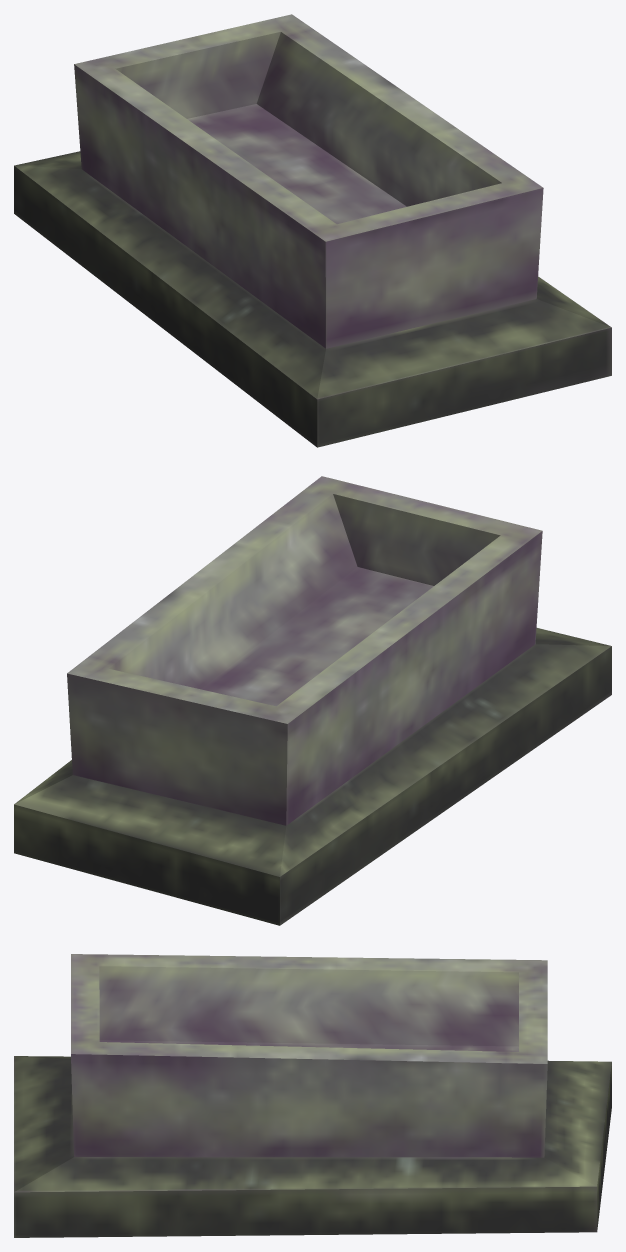
Rendered from BigTomb.fbx.
3 views of the same model, one above another, from view 1: azimuth 30°, elevation 25°; view 2: azimuth 150°, elevation 25°; view 3: azimuth 270°, elevation 25° (orthographic). The views are drawn at different scales.
Visible parts, largest first — view 1: BigTomb; view 2: BigTomb; view 3: BigTomb.
Boxes of the visible parts, <box> form: BigTomb: <box>14,14,611,447</box>; BigTomb: <box>14,476,611,925</box>; BigTomb: <box>14,954,611,1237</box>.
Size of the model in its own units: 13.53 by 7.69 by 25.08.
